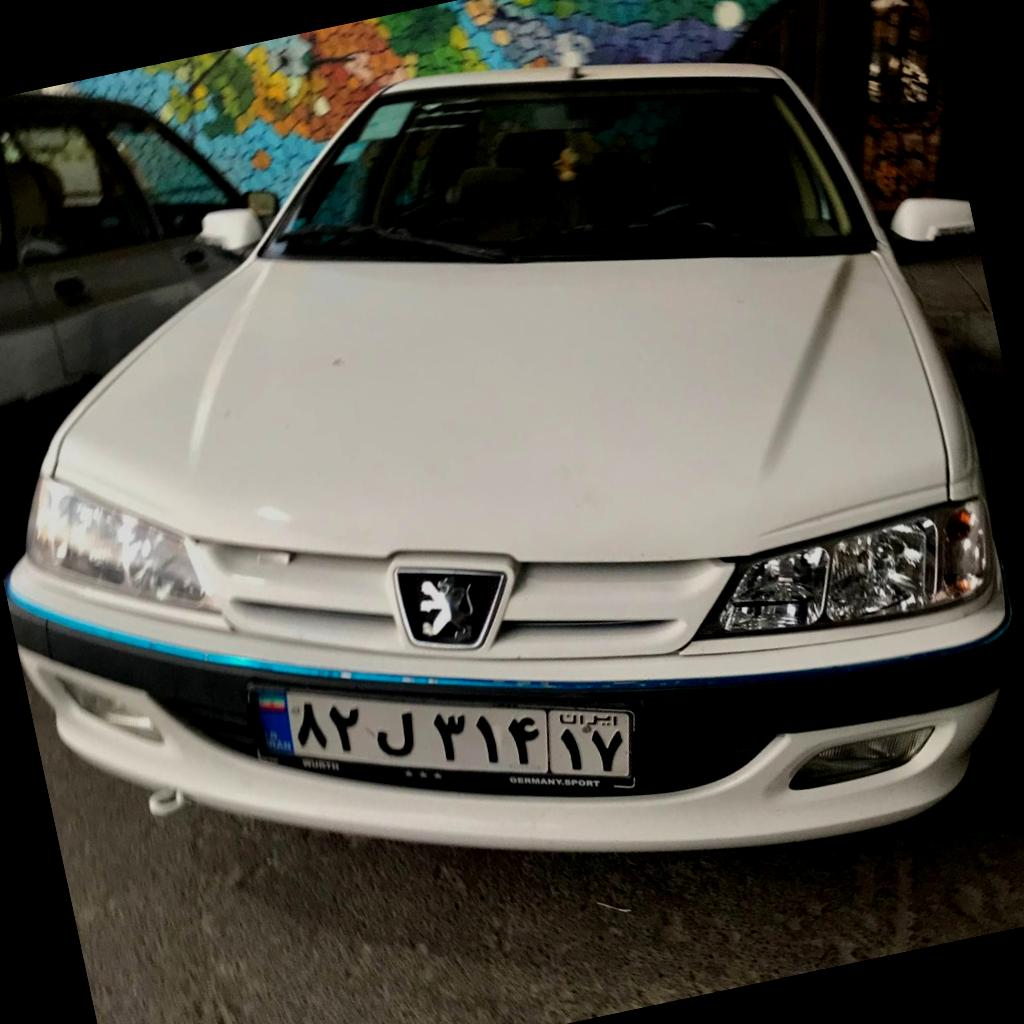Plates: (254, 691, 630, 779)
